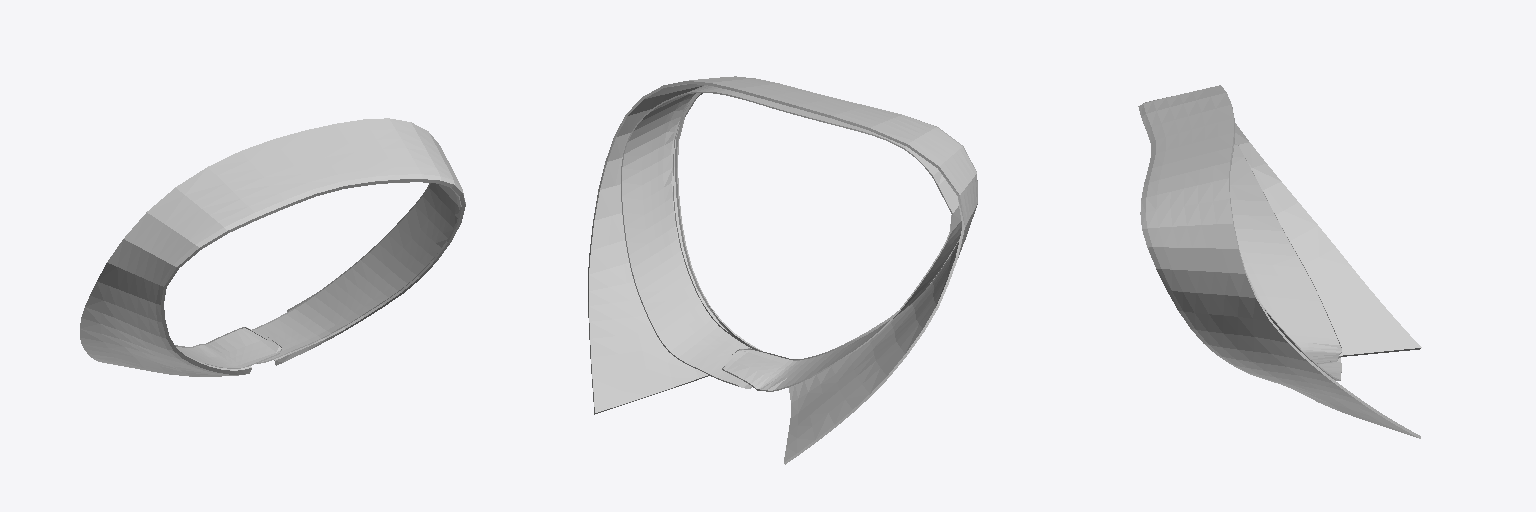
Rendered from button_down.obj.
3 views of the same model, side by side, from view 1: azimuth 30°, elevation 25°; view 2: azimuth 150°, elevation 25°; view 3: azimuth 270°, elevation 25° (orthographic).
Parts seen in each view (by area): view 1: 11_button_down, inner_collar_out; view 2: 11_button_down, inner_collar_out; view 3: 11_button_down, inner_collar_out.
Part boxes in pixels (left/top/right/bottom): 11_button_down: left=80, top=118, right=465, bottom=376; inner_collar_out: left=175, top=183, right=460, bottom=368; 11_button_down: left=588, top=76, right=977, bottom=464; inner_collar_out: left=621, top=85, right=961, bottom=391; 11_button_down: left=1138, top=85, right=1421, bottom=438; inner_collar_out: left=1230, top=138, right=1341, bottom=380.
Size of the model in its own units: 17.68 by 13.16 by 12.43.